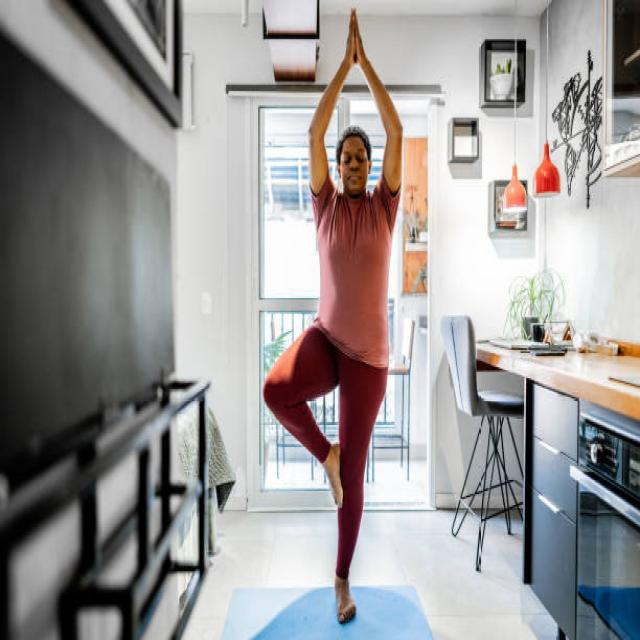Real human 2: (254, 9, 427, 628)
